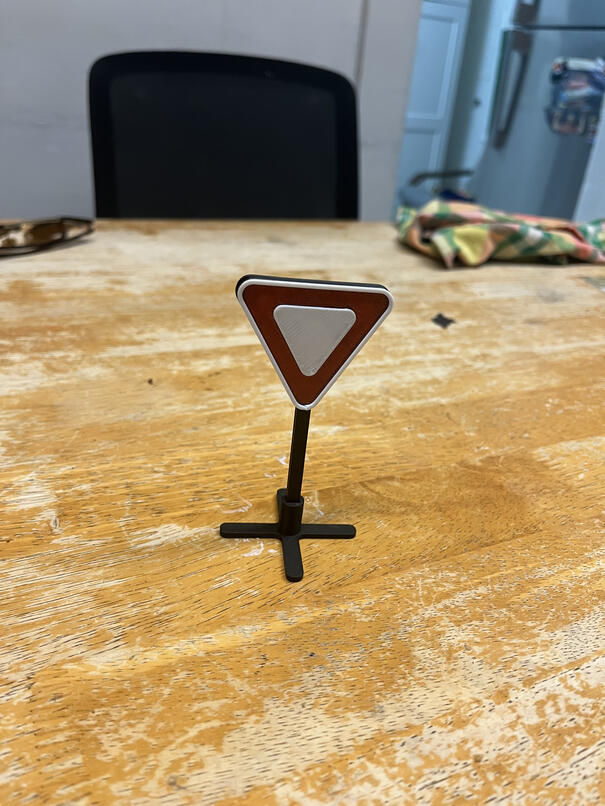sign_yield: (229, 272, 396, 424)
